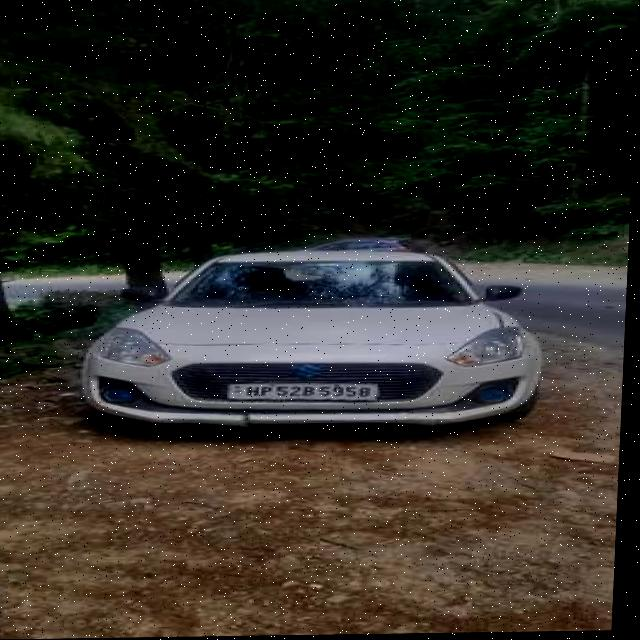plate: (231, 381, 384, 405)
